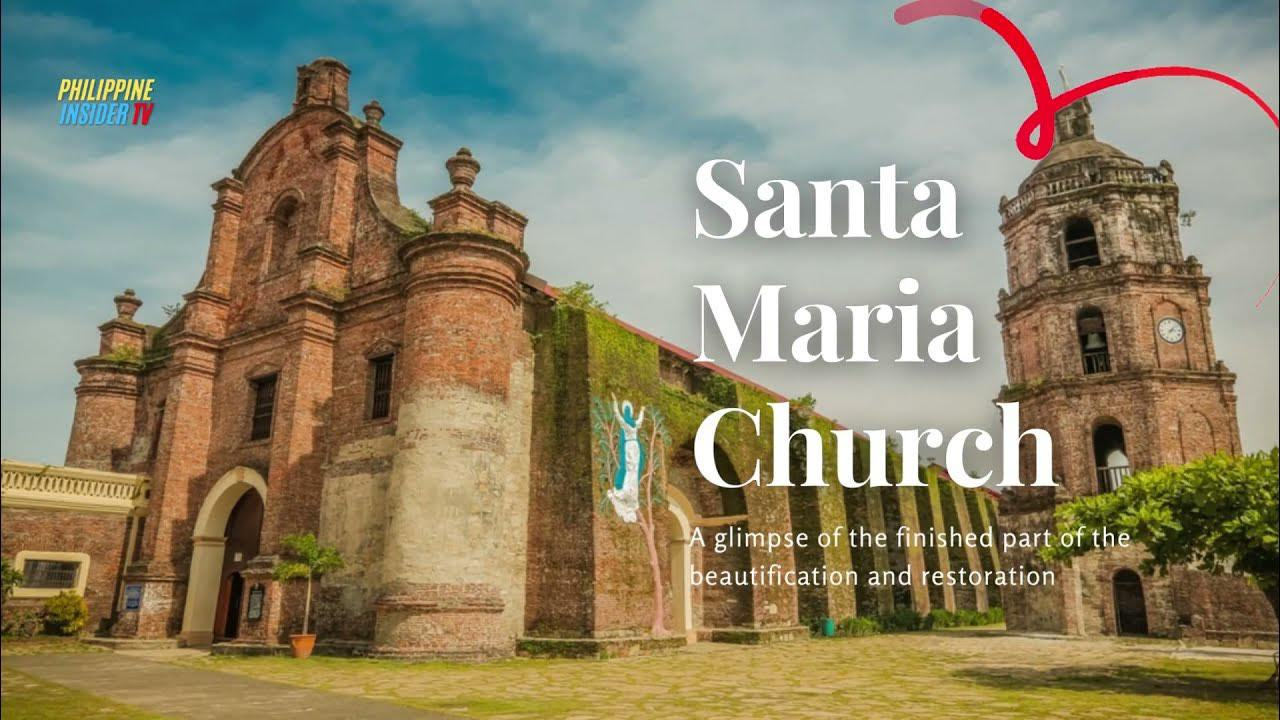Environmental Damage: (582, 337, 659, 395), (550, 277, 606, 328), (113, 339, 175, 372)
Sta. Maria Church: (75, 52, 514, 660)
Unfinished Paint: (336, 386, 523, 589)
